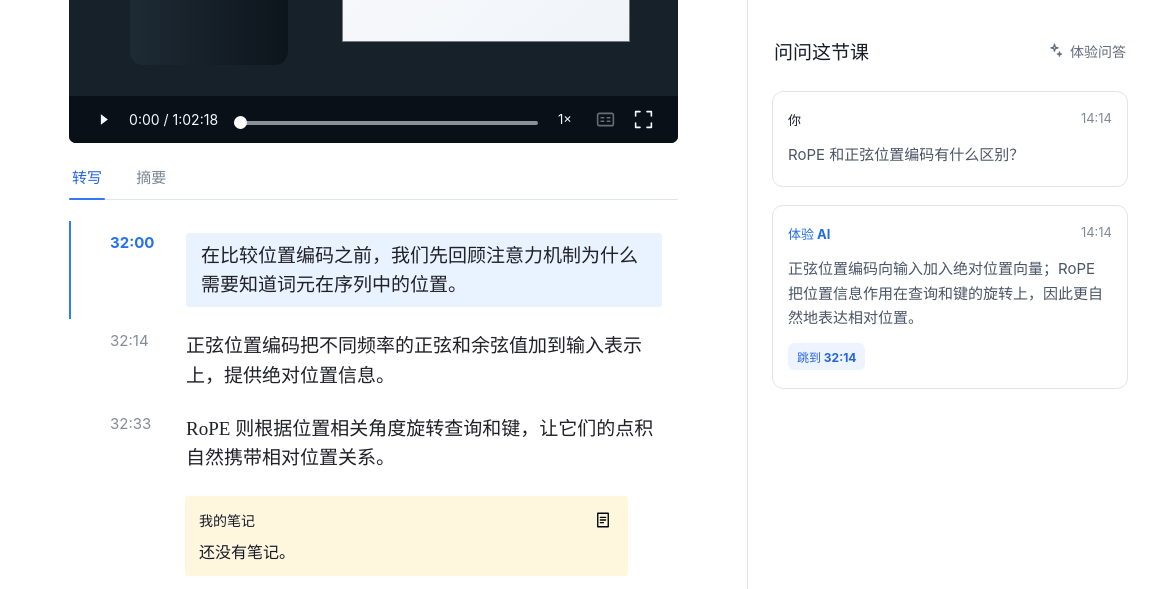
Test: ReaderPage › seeks when a transcript line is selected
The image size is (1152, 589).
(page scrolled)
Click the button "32:14 正弦位置编码把不同频率的正弦和余弦值加到输入表示上，提供绝对位置信息。" at (129, 341), box [69,319,678,402]
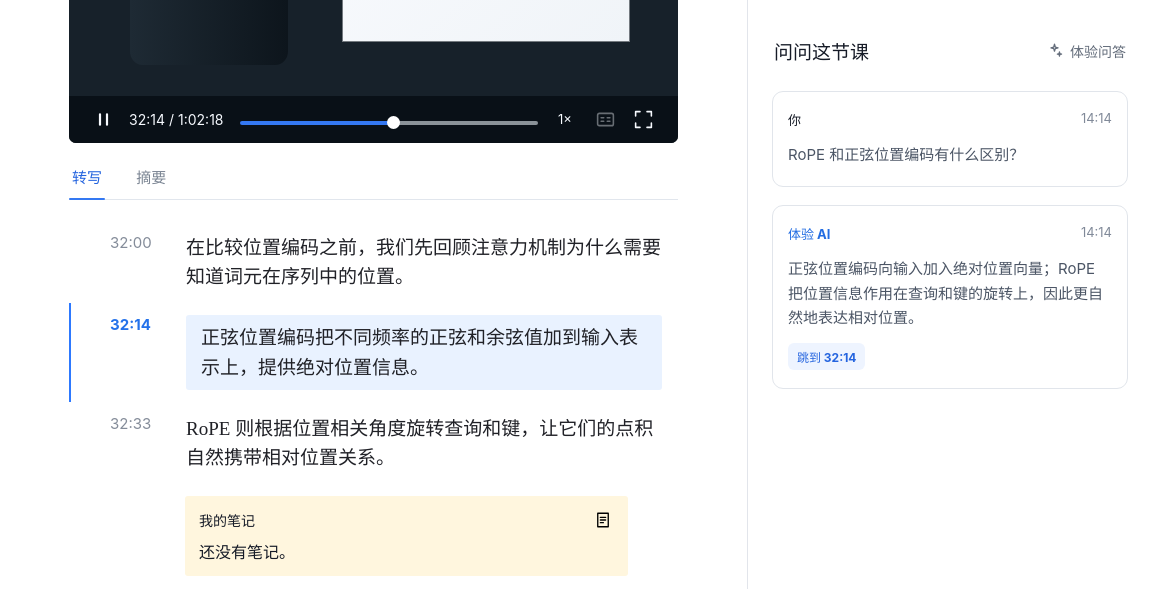
Now the slider named "播放进度" holds "1934", box [240,121,538,125]
